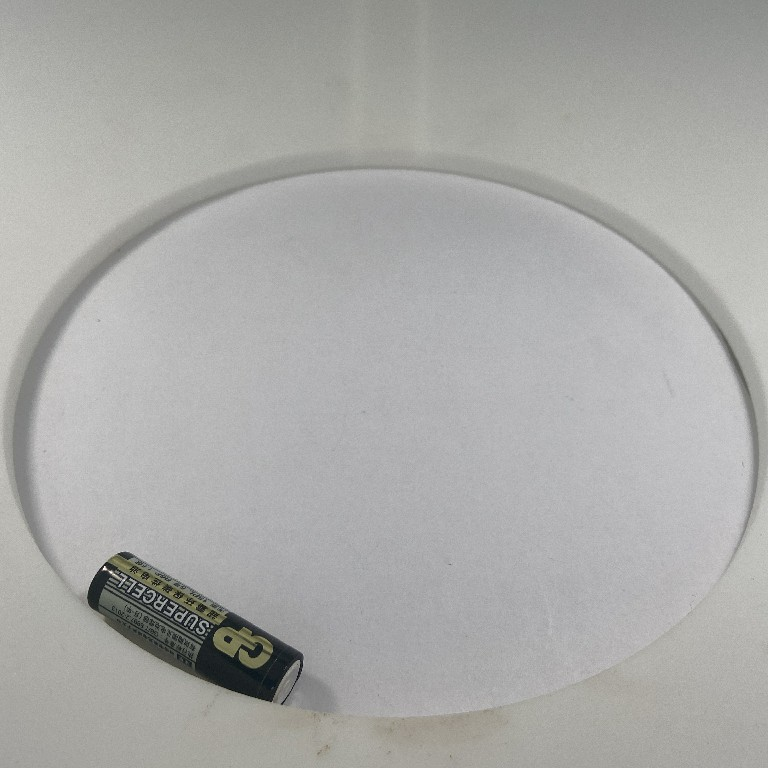charge: (80, 544, 312, 710)
